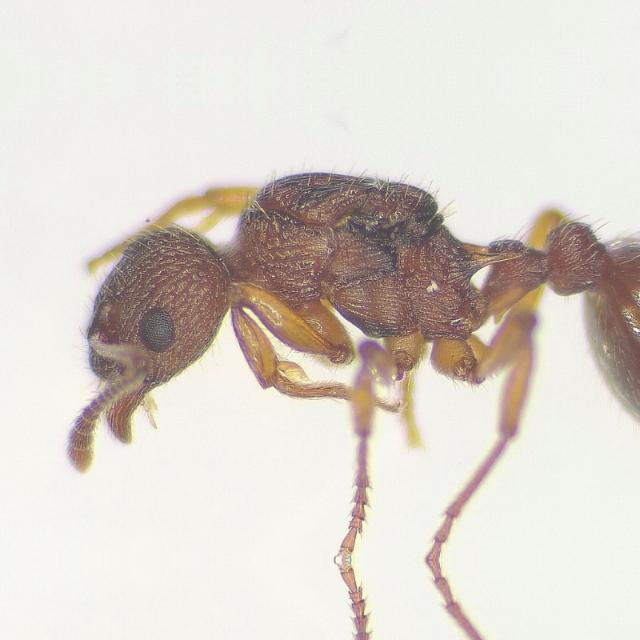Myrmica: (61, 99, 639, 517)
